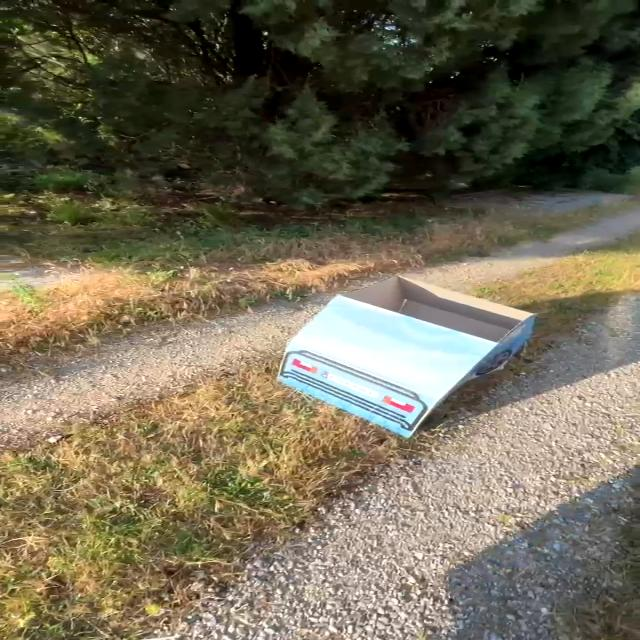blue_car: (203, 260, 585, 452)
